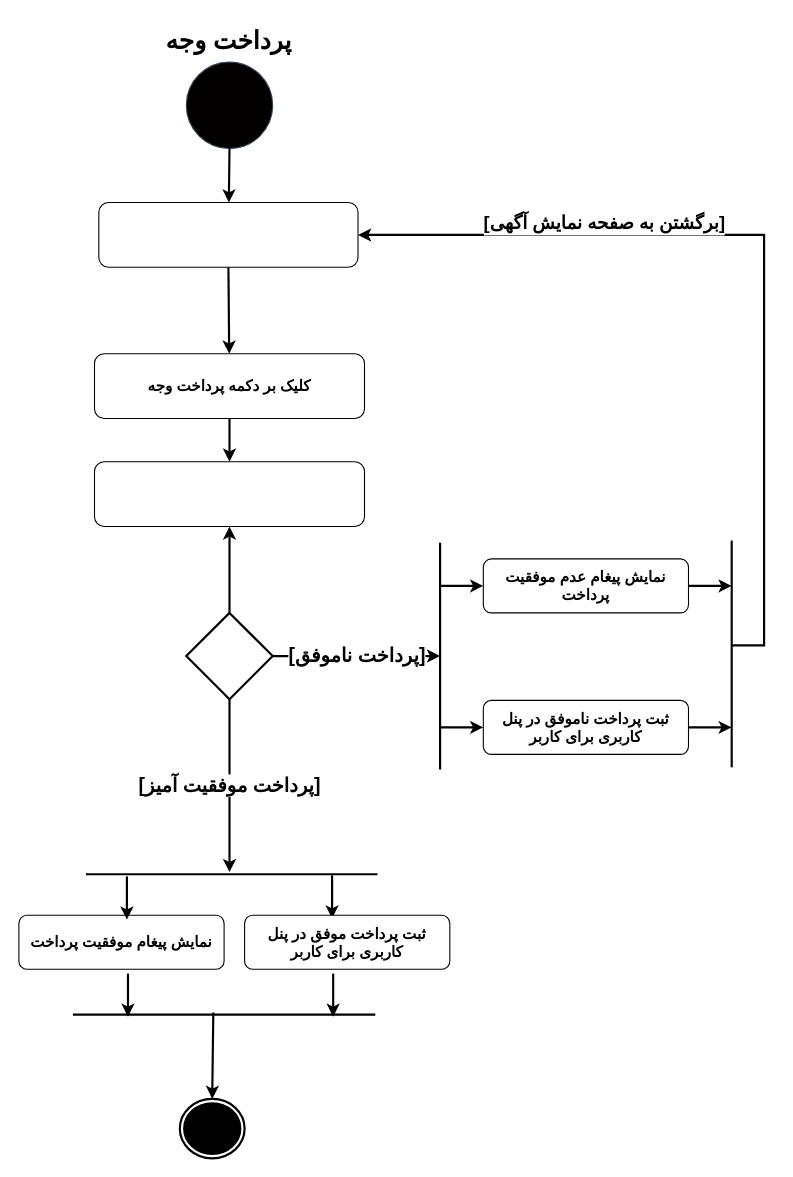
The diagram is 793 pixels wide and 1177 high, and some of its shapes have lost their labels. The shapes that lost their labels are listed below. From the top down, each one's centre as x and y in pixels, then its label:
At point 228,234: "ورود به صفحه آگهی".
At point 228,493: "درگاه پرداخت بانک".
